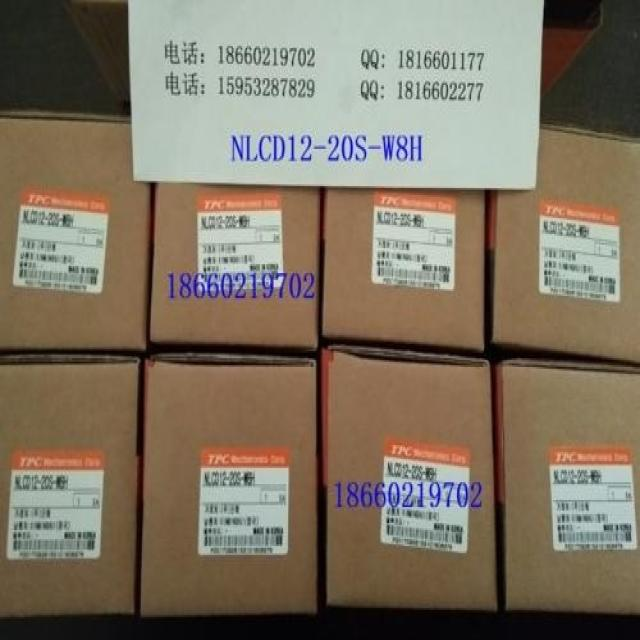box: (141, 356, 317, 615), (324, 344, 495, 610), (0, 110, 151, 351), (0, 358, 140, 617), (497, 362, 637, 612), (490, 128, 639, 362), (151, 183, 319, 347), (324, 190, 486, 353)
